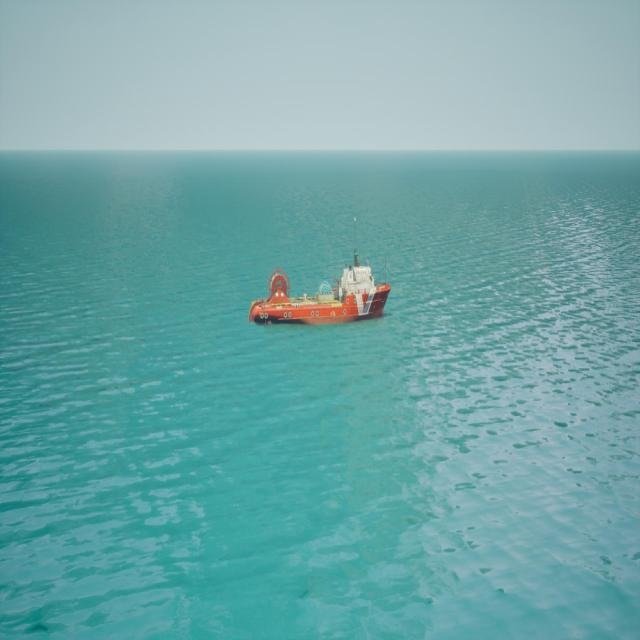tug boat: (251, 257, 391, 331)
